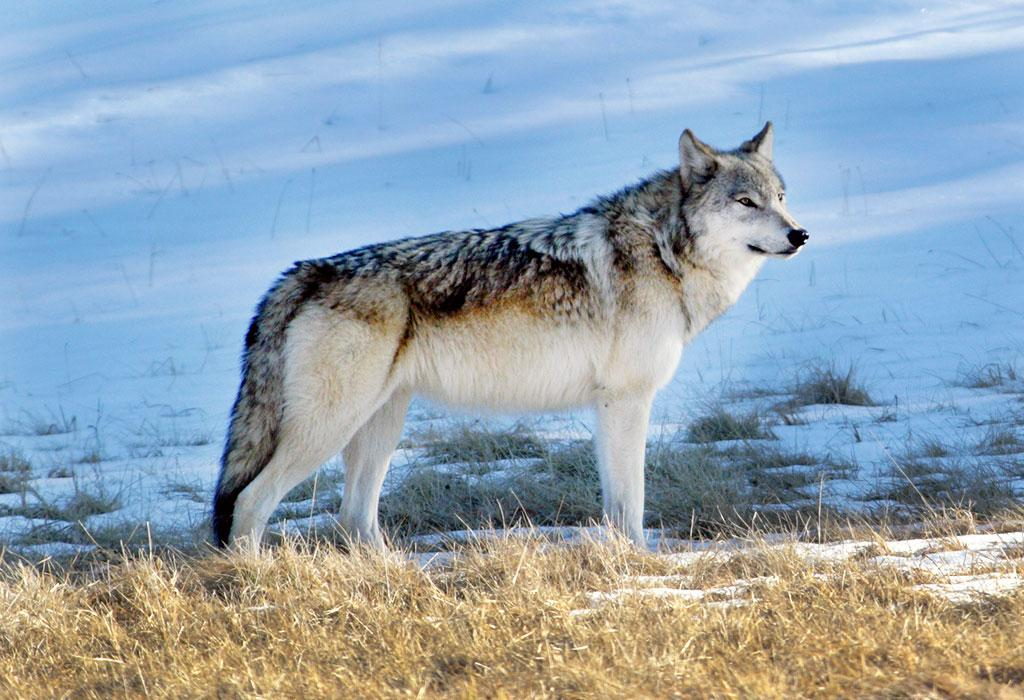Wolf: (203, 118, 814, 599)
